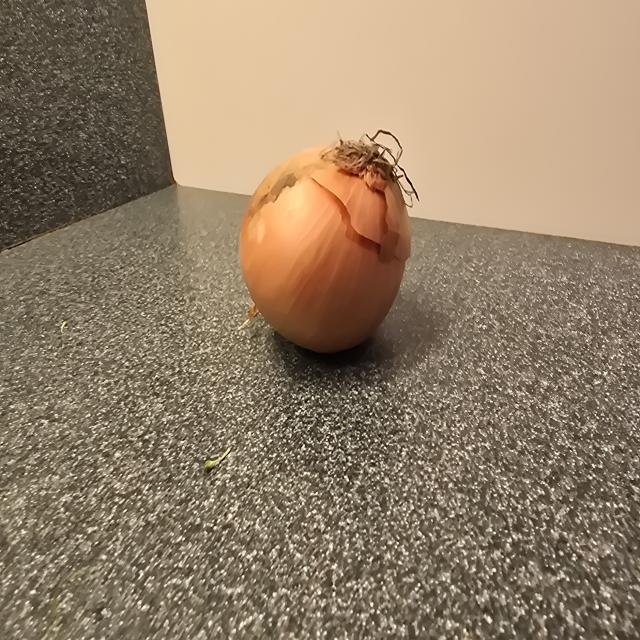Onion: (239, 131, 417, 352)
